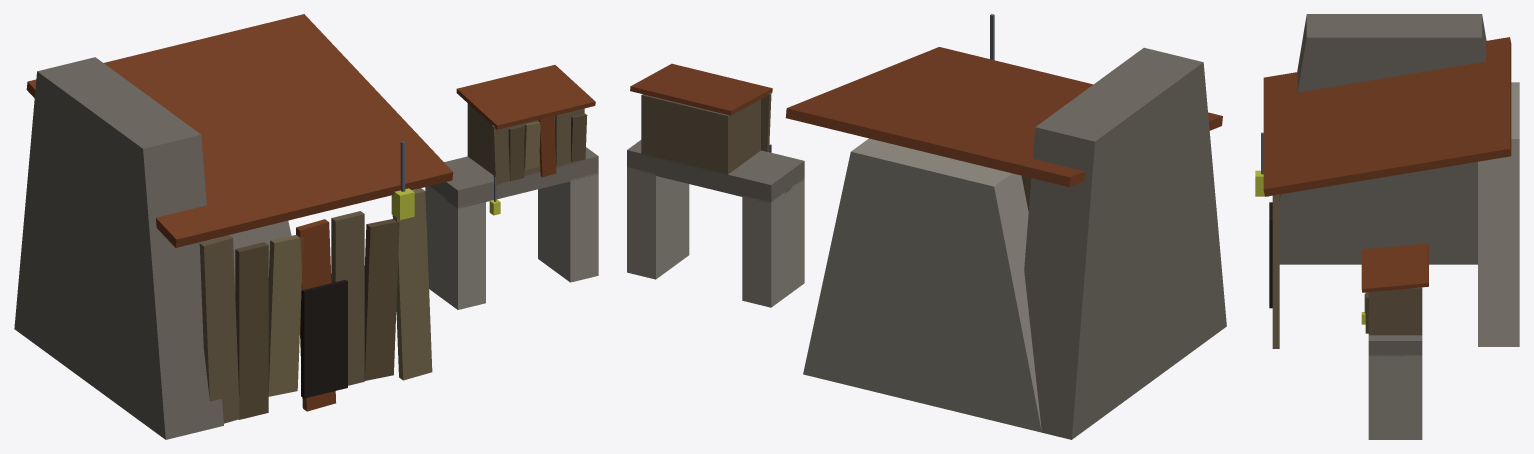
Rendered from ratfolk_hall_broken.glb.
3 renders of one model, left to right at view 1: azimuth 30°, elevation 25°; view 2: azimuth 150°, elevation 25°; view 3: azimuth 270°, elevation 25°, orthographic. The views are drawn at different scales.
Parts seen in each view (by area): view 1: ratfolk_hall_piece2, ratfolk_hall_piece13, ratfolk_hall_piece7, ratfolk_hall_piece4, ratfolk_hall_piece5, ratfolk_hall_piece9, ratfolk_hall_piece0, ratfolk_hall_piece3, ratfolk_hall_piece10, ratfolk_hall_piece1, ratfolk_hall_piece11, ratfolk_hall_piece12 (+2 smaller); view 2: ratfolk_hall_piece2, ratfolk_hall_piece6, ratfolk_hall_piece1, ratfolk_hall_piece7, ratfolk_hall_piece5, ratfolk_hall_piece13, ratfolk_hall_piece4, ratfolk_hall_piece0, ratfolk_hall_piece10, ratfolk_hall_piece8, ratfolk_hall_piece3; view 3: ratfolk_hall_piece5, ratfolk_hall_piece13, ratfolk_hall_piece7, ratfolk_hall_piece2, ratfolk_hall_piece4, ratfolk_hall_piece0, ratfolk_hall_piece3, ratfolk_hall_piece6, ratfolk_hall_piece8, ratfolk_hall_piece1, ratfolk_hall_piece11, ratfolk_hall_piece9 (+1 smaller).
Part boxes in pixels (<box>): ratfolk_hall_piece2: <box>14,179,236,439</box>; ratfolk_hall_piece13: <box>63,79,311,281</box>; ratfolk_hall_piece7: <box>351,65,598,267</box>; ratfolk_hall_piece4: <box>318,104,457,320</box>; ratfolk_hall_piece5: <box>39,14,364,110</box>; ratfolk_hall_piece9: <box>259,279,432,411</box>; ratfolk_hall_piece0: <box>168,78,363,183</box>; ratfolk_hall_piece3: <box>190,267,307,433</box>; ratfolk_hall_piece10: <box>427,172,598,307</box>; ratfolk_hall_piece1: <box>22,71,117,239</box>; ratfolk_hall_piece11: <box>363,165,453,347</box>; ratfolk_hall_piece12: <box>267,172,344,314</box>; ratfolk_hall_piece2: <box>976,127,1226,439</box>; ratfolk_hall_piece6: <box>803,160,1051,401</box>; ratfolk_hall_piece1: <box>917,130,1177,405</box>; ratfolk_hall_piece7: <box>627,63,898,279</box>; ratfolk_hall_piece5: <box>785,83,1122,238</box>; ratfolk_hall_piece13: <box>1026,47,1222,136</box>; ratfolk_hall_piece4: <box>758,14,1076,274</box>; ratfolk_hall_piece0: <box>848,83,1047,134</box>; ratfolk_hall_piece10: <box>669,140,804,292</box>; ratfolk_hall_piece8: <box>742,238,833,307</box>; ratfolk_hall_piece3: <box>932,389,985,418</box>; ratfolk_hall_piece5: <box>1410,14,1519,236</box>; ratfolk_hall_piece13: <box>1263,14,1437,134</box>; ratfolk_hall_piece7: <box>1361,157,1428,439</box>; ratfolk_hall_piece2: <box>1279,168,1477,264</box>; ratfolk_hall_piece4: <box>1255,132,1380,248</box>; ratfolk_hall_piece0: <box>1293,87,1429,164</box>; ratfolk_hall_piece3: <box>1279,192,1381,264</box>; ratfolk_hall_piece6: <box>1478,44,1519,346</box>; ratfolk_hall_piece8: <box>1478,221,1519,313</box>; ratfolk_hall_piece1: <box>1438,14,1511,195</box>; ratfolk_hall_piece11: <box>1263,184,1279,327</box>; ratfolk_hall_piece9: <box>1269,248,1279,348</box>.
Size of the model in its own units: 4.9 by 2.69 by 2.76.
